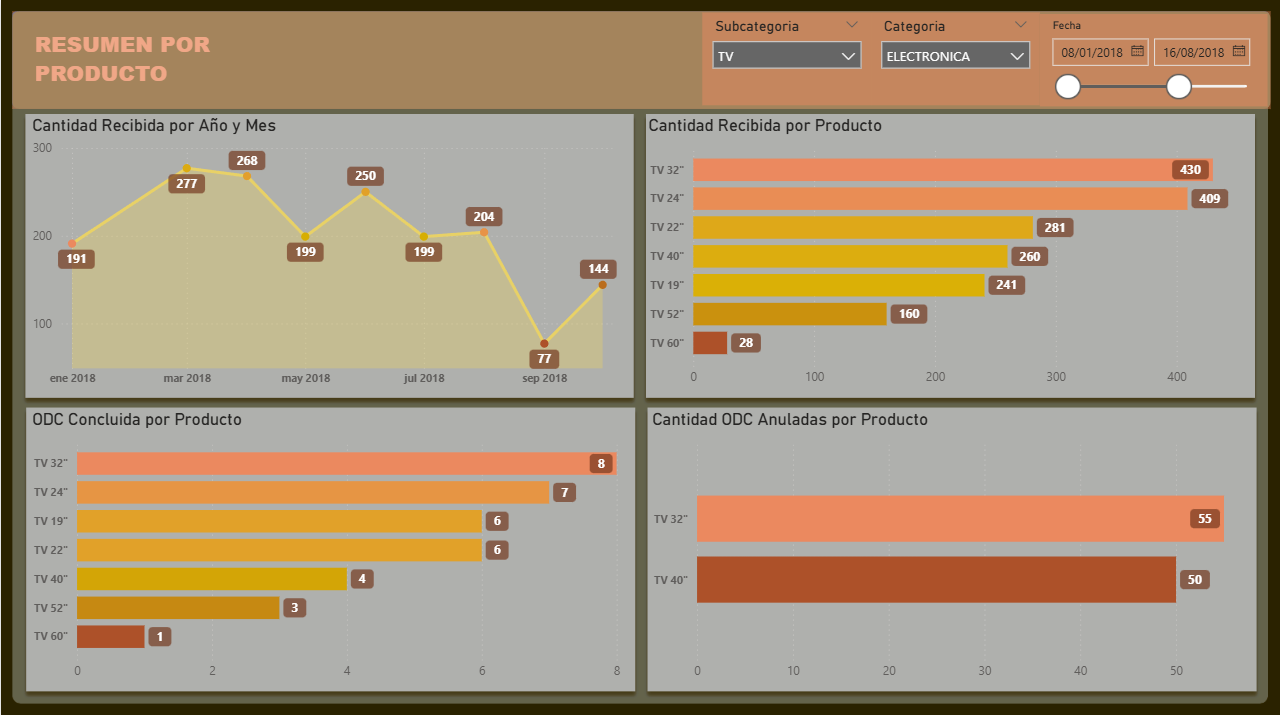

The page's visual inventory and layout, read from the dashboard file:
{"tool":"powerbi","page":{"name":"Resumen Producto","canvas":[1280,720],"ordinal":2},"visuals":[{"type":"shape","box":[10.9,10.9,1258.3,97.7],"z":0},{"type":"textbox","box":[28.4,23.6,280.5,69.3],"z":1000},{"type":"slicer","fields":{"Values":["ORDENES.Fecha"]},"box":[1038.7,13.3,228,92.9],"z":2000},{"type":"slicer","fields":{"Values":["PRODUCTOS.Categoria"]},"box":[870.1,12.9,168.9,92.8],"z":3000},{"type":"slicer","fields":{"Values":["PRODUCTOS.Subcategoria"]},"box":[701.2,12.9,168.9,92.8],"z":4000},{"type":"areaChart","title":"Cantidad Recibida por Año y Mes","fields":{"Category":["ORDENES.fecha_recibido.Variation.Date Hierarchy.Year","ORDENES.fecha_recibido.Variation.Date Hierarchy.Month"],"Y":["ORDENES.Cantidad Recibida"]},"box":[26.8,115,603.6,280.5],"z":5000},{"type":"clusteredBarChart","title":"Cantidad Recibida por Producto","fields":{"Category":["PRODUCTOS.Producto"],"Y":["ORDENES.Cantidad Recibida"]},"box":[643,115,613.1,280.5],"z":6000},{"type":"clusteredBarChart","title":"ODC Concluida por Producto","fields":{"Category":["PRODUCTOS.Producto"],"Y":["ORDENES.Ord Compra Concluida"]},"box":[26.8,408.2,613.1,280.5],"z":7000},{"type":"clusteredBarChart","title":"Cantidad ODC Anuladas por Producto","fields":{"Category":["PRODUCTOS.Producto"],"Y":["ORDENES.Cantidad ODC anuladas"]},"box":[646.2,408.2,609.9,280.5],"z":8000}]}

Visuals, with their boxes in screenshot pixels (x1, y1, x2, y2), scaled from the page's 1280x720 canvas onto the 1280x715 screenshot:
shape: [11, 11, 1269, 108]
textbox: [28, 23, 309, 92]
slicer - ORDENES.Fecha: [1039, 13, 1267, 105]
slicer - PRODUCTOS.Categoria: [870, 13, 1039, 105]
slicer - PRODUCTOS.Subcategoria: [701, 13, 870, 105]
"Cantidad Recibida por Año y Mes" areaChart: [27, 114, 630, 393]
"Cantidad Recibida por Producto" clusteredBarChart: [643, 114, 1256, 393]
"ODC Concluida por Producto" clusteredBarChart: [27, 405, 640, 684]
"Cantidad ODC Anuladas por Producto" clusteredBarChart: [646, 405, 1256, 684]
